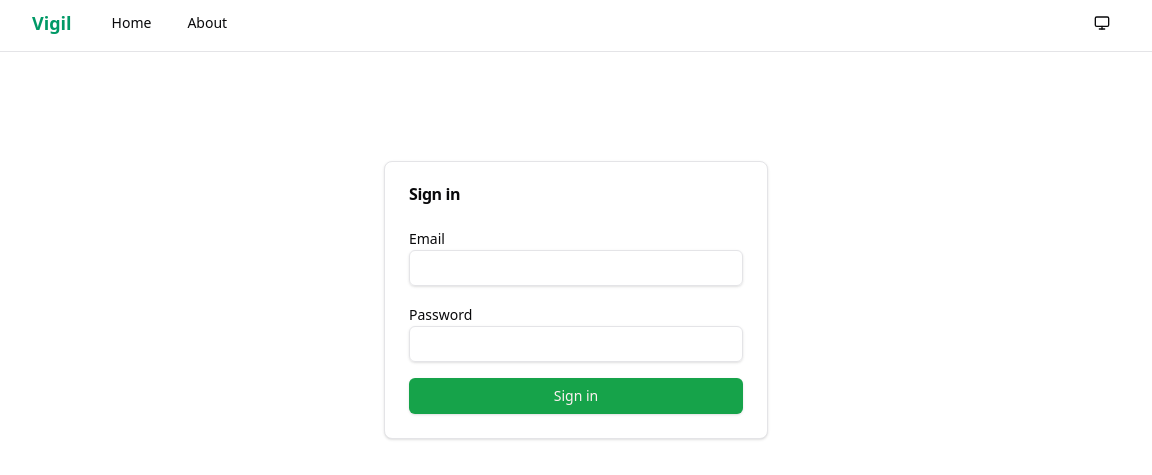
Test case: Sign-in page › shows invalid credentials error on 401
Type "user@example.com" into the field labelled "Email" at (576, 268), box left=409, top=250, right=743, bottom=286
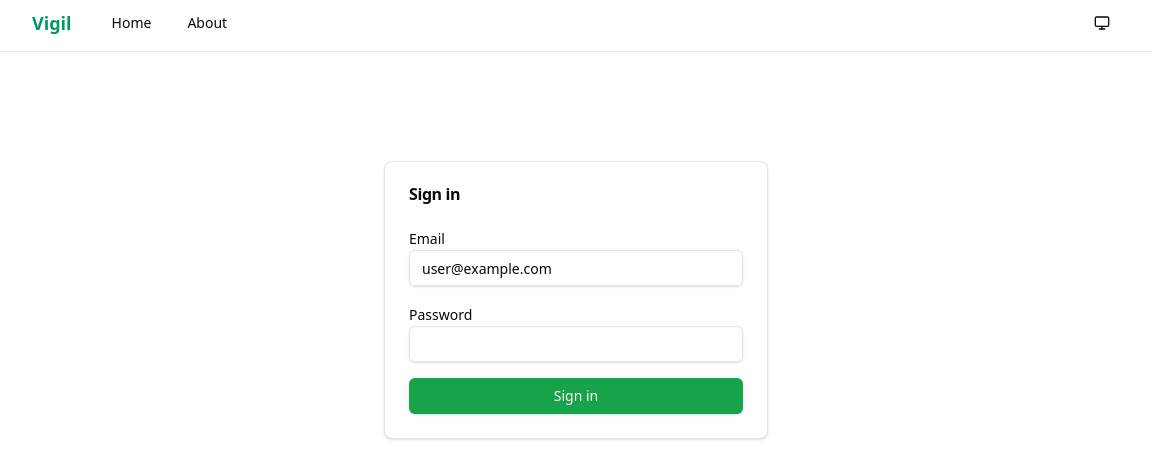
Type "wrong" into the password field labelled "Password" at (576, 344), box left=409, top=326, right=743, bottom=362
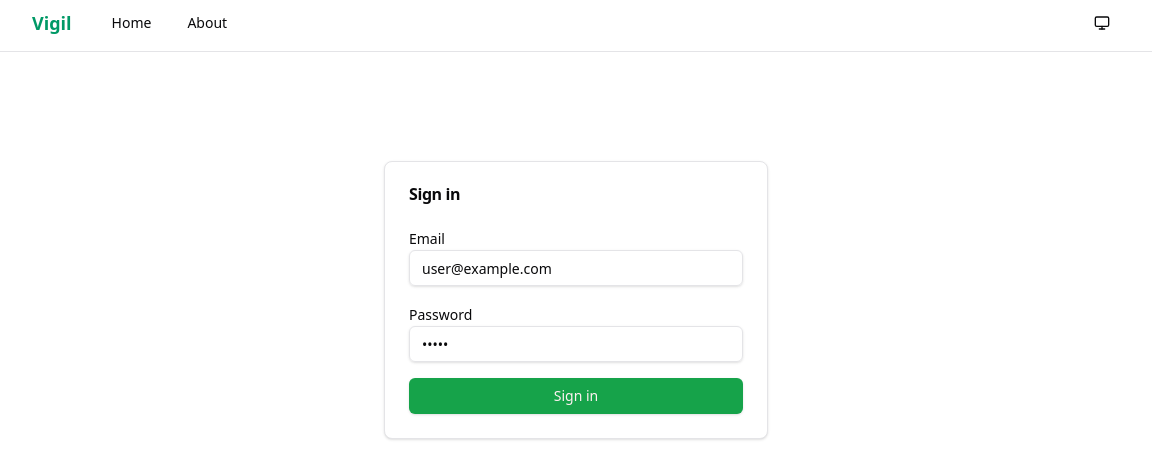
Click the button "Sign in" at (576, 396), box left=409, top=378, right=743, bottom=414
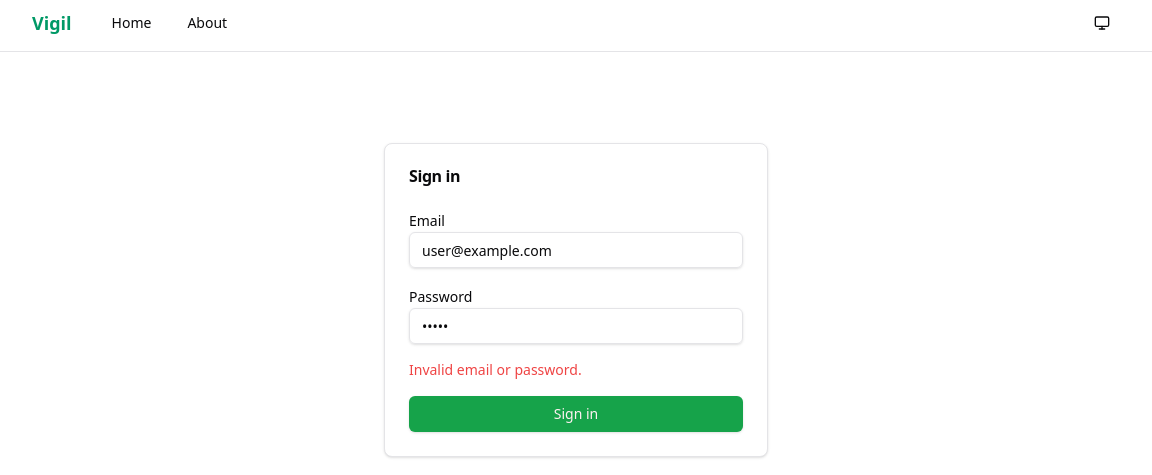
Result: the message shows "Invalid email or password" at left=409, top=360, right=582, bottom=379
